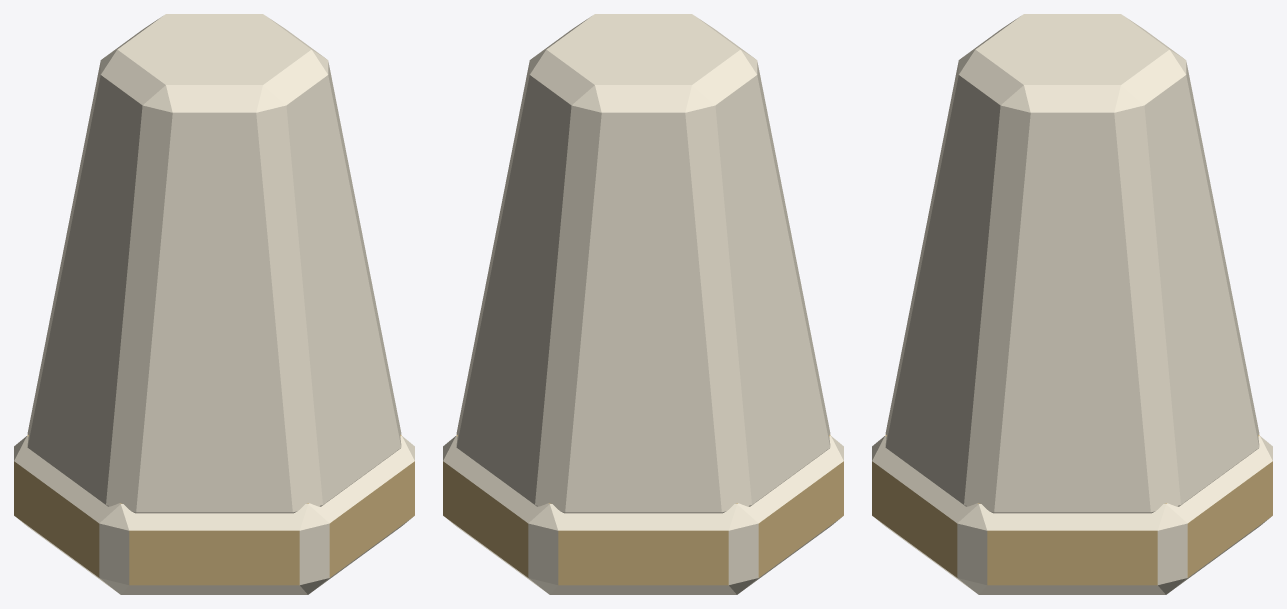
Rendered from TH_Base_Foot.fbx.
3 renders of one model, left to right at view 1: azimuth 30°, elevation 25°; view 2: azimuth 150°, elevation 25°; view 3: azimuth 270°, elevation 25°, orthographic.
Parts seen in each view (by area): view 1: TH_Base_Foot; view 2: TH_Base_Foot; view 3: TH_Base_Foot.
Boxes of the visible parts, x1=… form: TH_Base_Foot: x1=14, y1=14, x2=414, y2=594; TH_Base_Foot: x1=443, y1=14, x2=843, y2=594; TH_Base_Foot: x1=872, y1=14, x2=1272, y2=594.
Size of the model in its own units: 0.3637 by 0.525 by 0.4.
